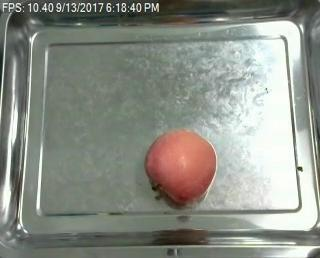apple: (143, 129, 216, 204)
